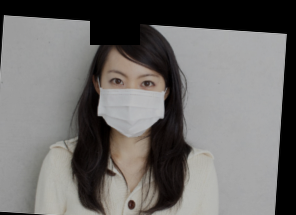with_mask: (96, 71, 164, 137)
